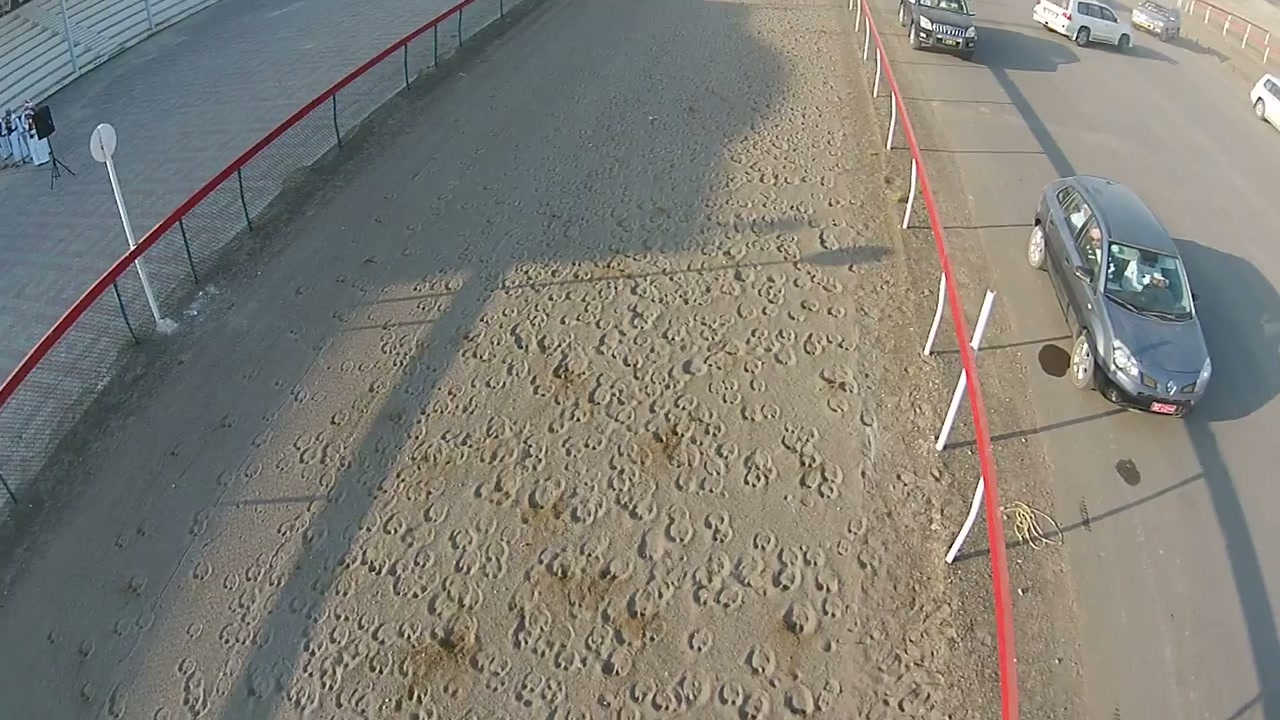animal_footprint: (54, 4, 958, 719)
